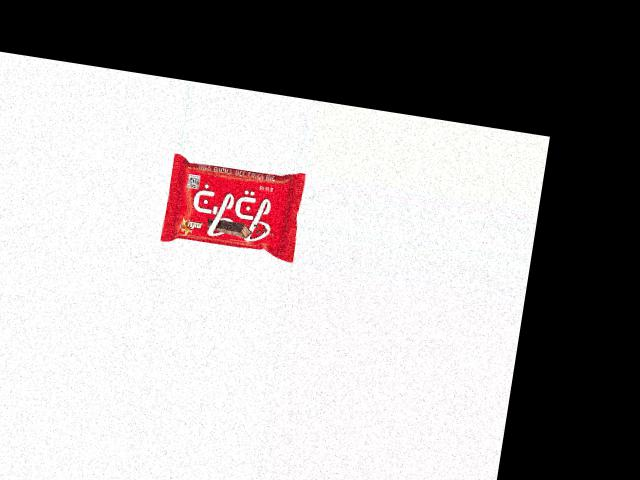chocolate: (161, 151, 305, 261)
